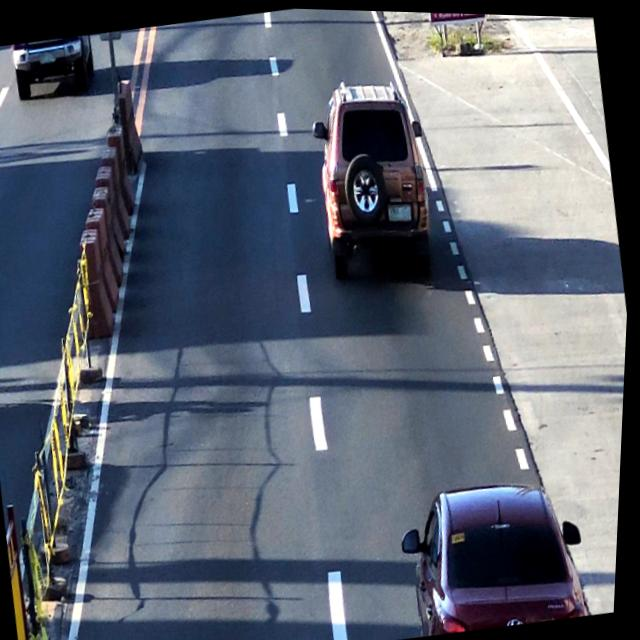Car: (396, 467, 599, 639), (303, 75, 445, 292)
License-Plate: (386, 197, 417, 222)
